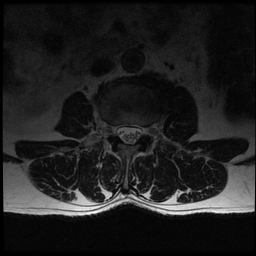CCS_normal: (125, 118, 133, 149)
LFS_normal: (143, 121, 151, 143)
LLS_normal: (133, 121, 142, 144)
RFS_normal: (108, 119, 116, 143)
RLS_normal: (116, 119, 124, 143)
